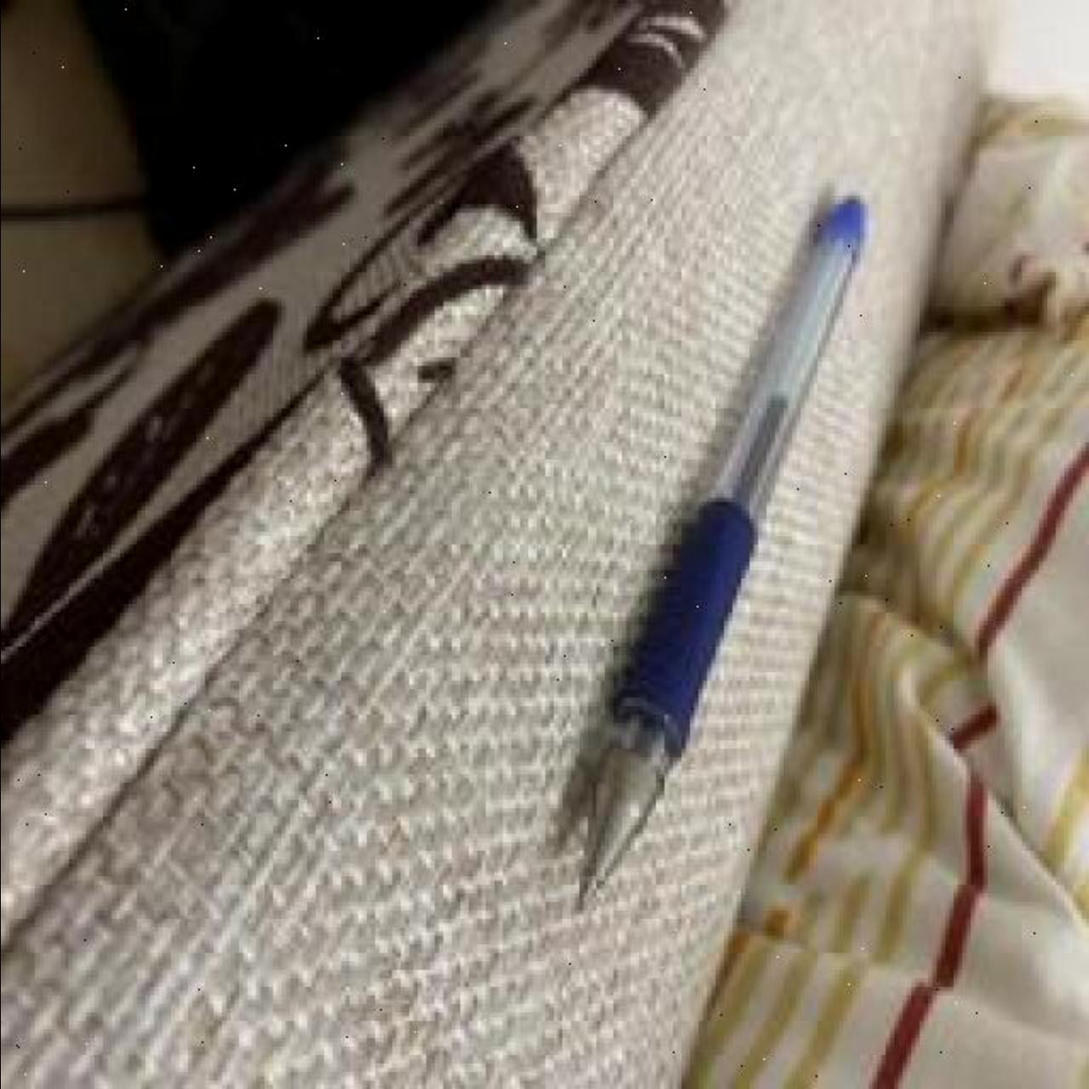pen: (565, 187, 868, 919)
